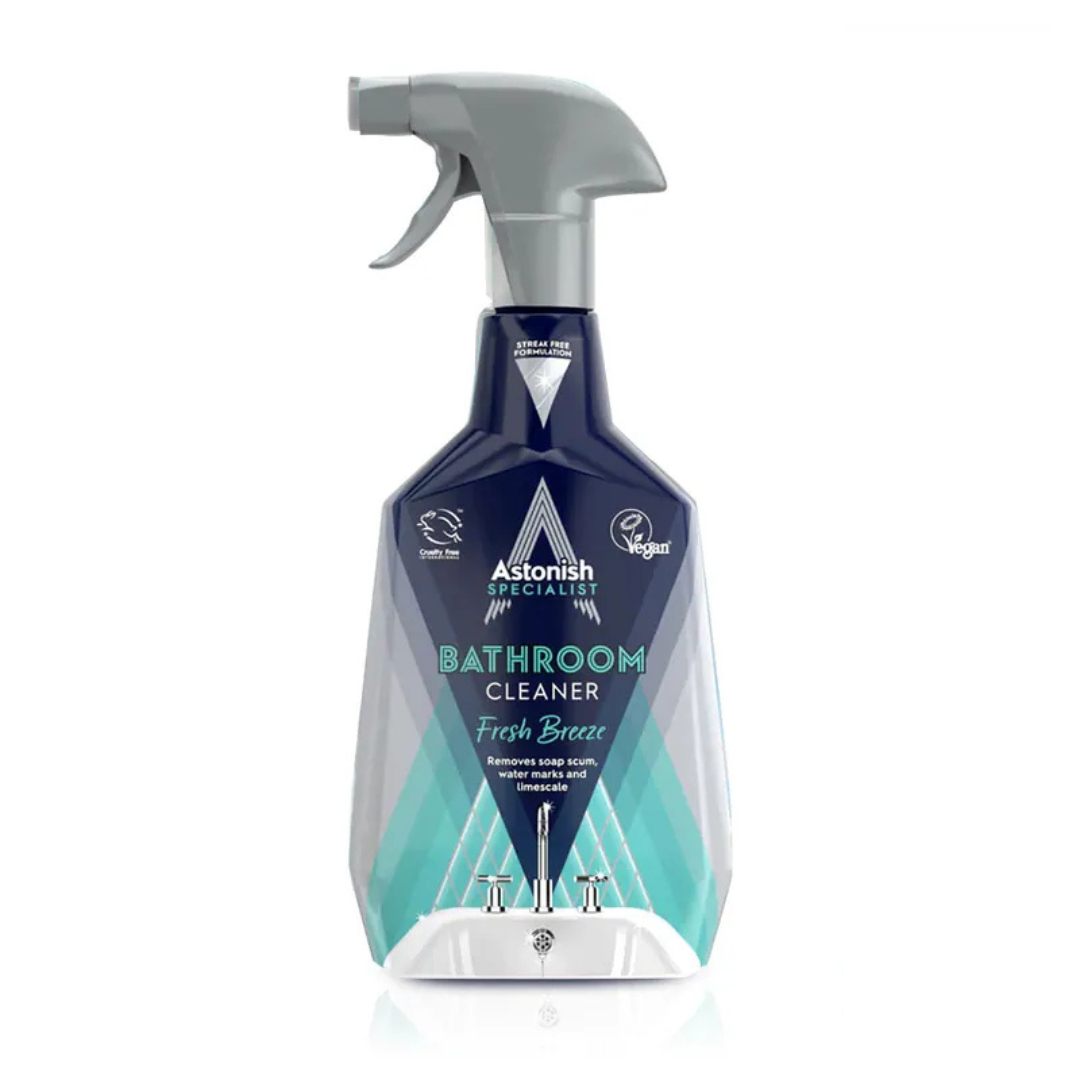cleaner: (329, 64, 756, 995)
